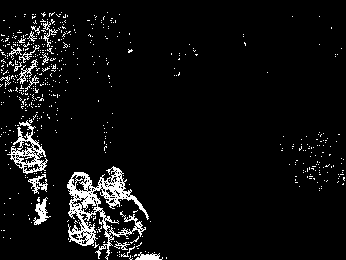person: (97, 164, 149, 260), (10, 121, 49, 226), (66, 166, 102, 260)
